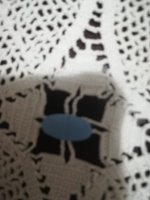Majezik: (41, 113, 93, 143)
